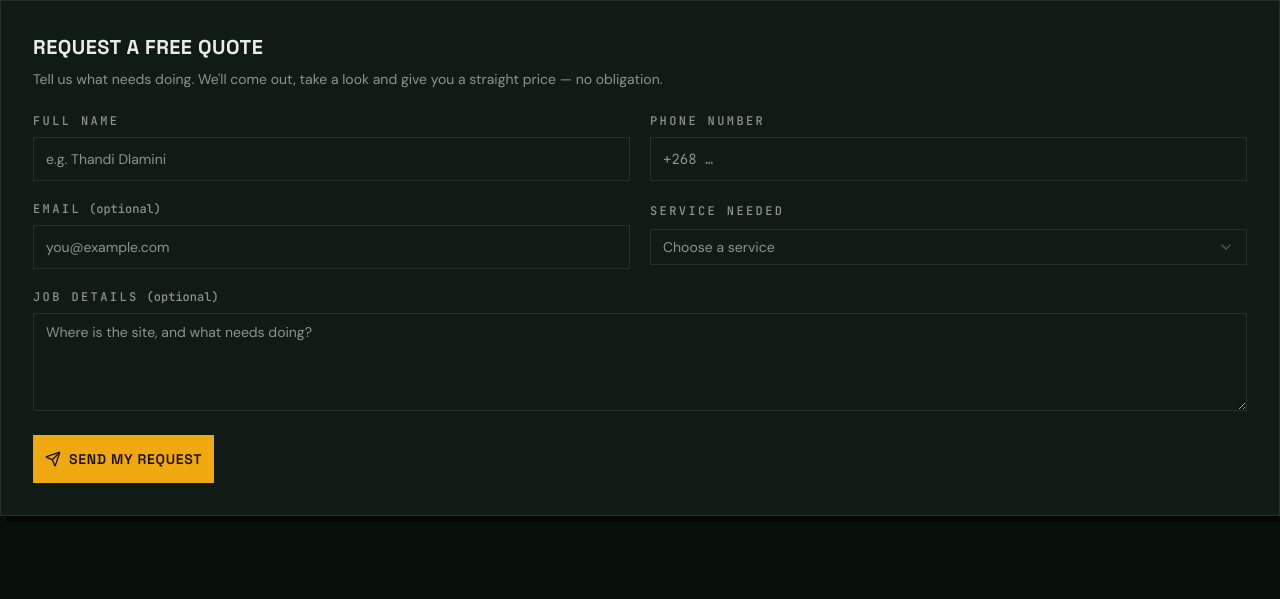
Test case: QuoteForm › validates that name, phone and service are present
Click the button "Send my request": click(124, 459) [33, 435, 214, 483]
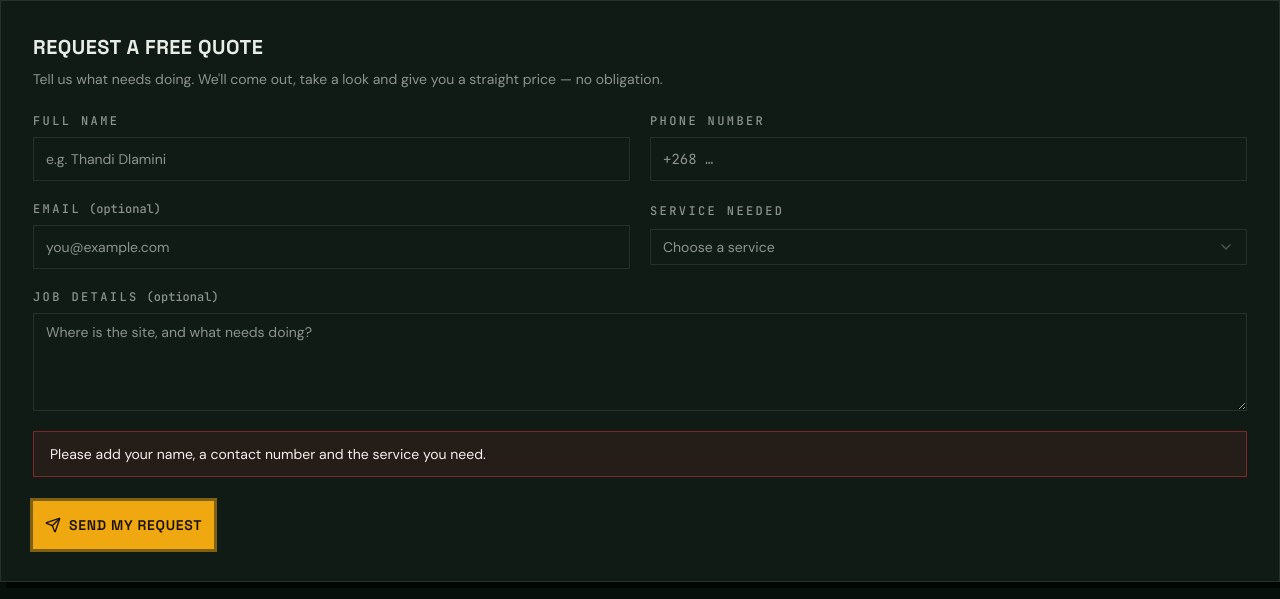
Check: the message shows "add your name, a contact number and the service", box [50, 445, 486, 463]
